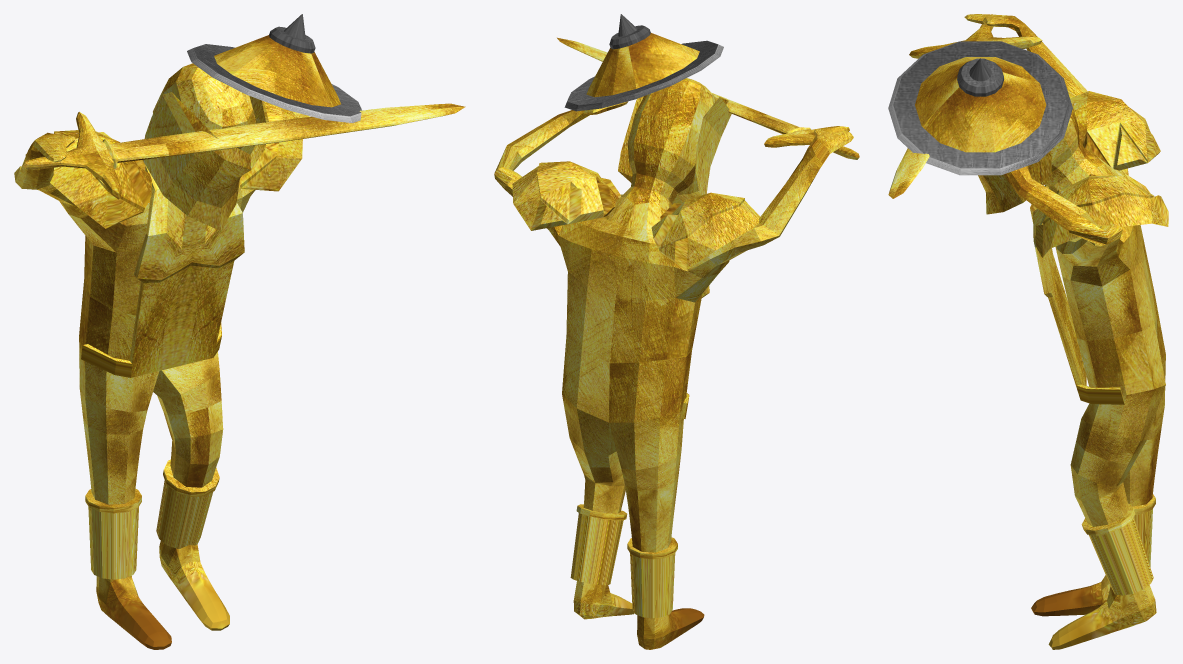
The model's file is StatuePose_04.glb.
3 views of the same model, side by side, from view 1: azimuth 30°, elevation 25°; view 2: azimuth 150°, elevation 25°; view 3: azimuth 270°, elevation 25° (orthographic). The views are drawn at different scales.
Visible parts, largest first — view 1: knight_statue; view 2: knight_statue; view 3: knight_statue.
Part boxes in pixels (box(x1,y1,x2,y2)): knight_statue: box(14, 14, 465, 649); knight_statue: box(494, 14, 859, 649); knight_statue: box(888, 14, 1168, 649).
Size of the model in its own units: 1.32 by 2.04 by 0.8504.
Materials: 2 (2 with a texture image).
